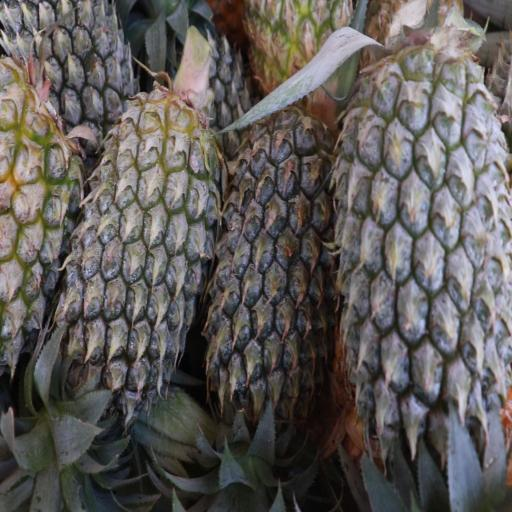------------------------------: (0, 68, 89, 366), (243, 0, 353, 113)
